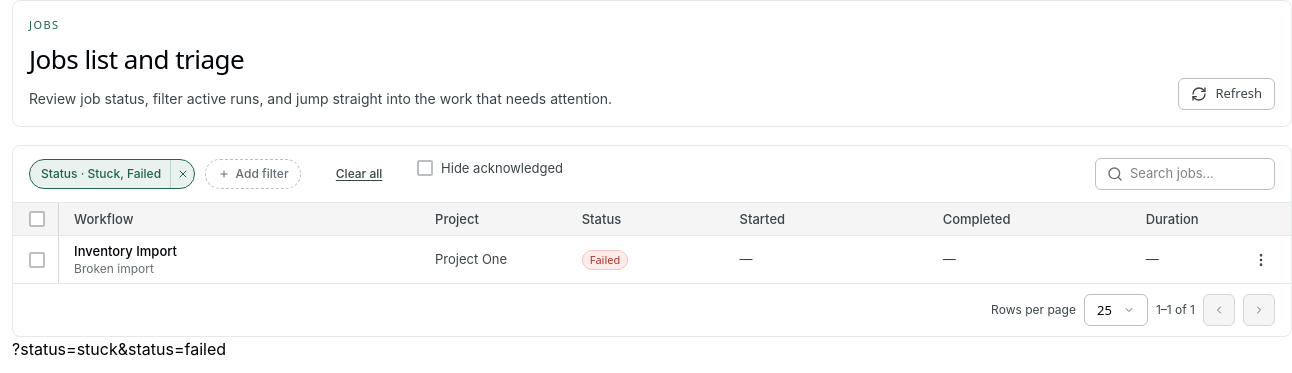
JobsListPage › restores several statuses from the URL and clears them all with the chip
Expected: the text "Status · Stuck, Failed" is shown, [30,165,170,183]
Click the button named "Remove Status filter": (182, 174) [170,160,194,188]
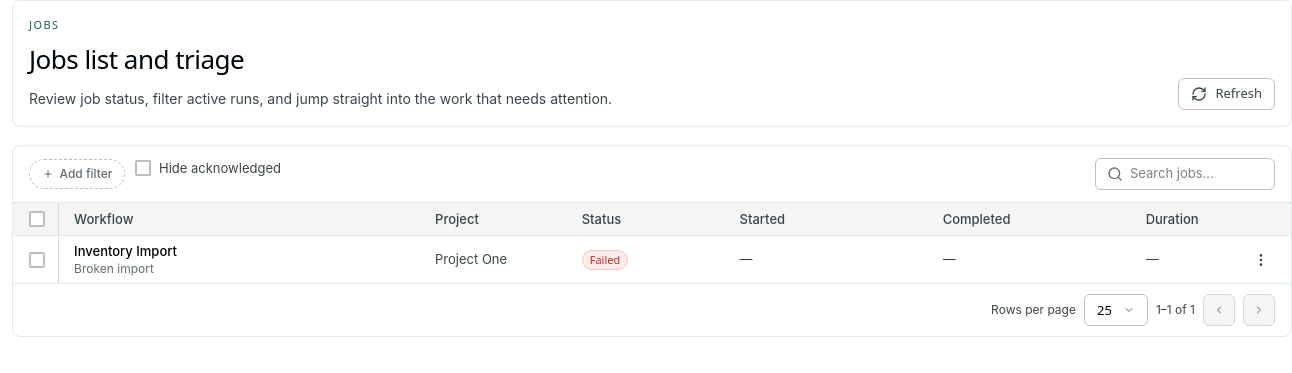
Result: the text "Status · " is gone
